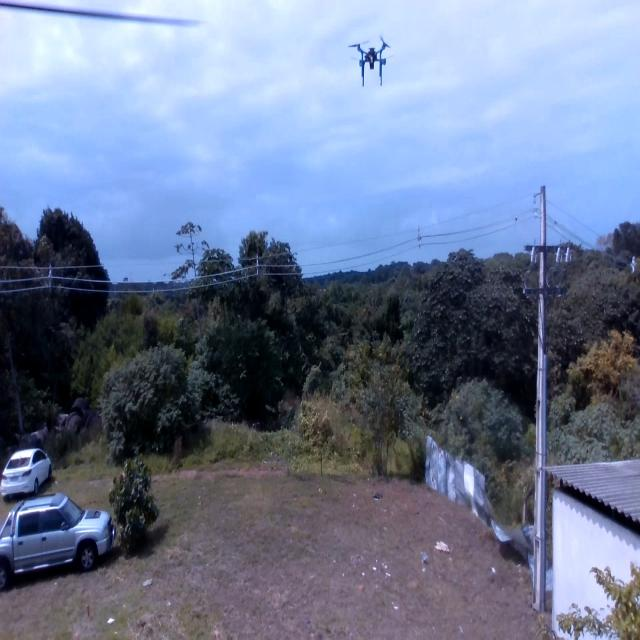-uav-: (344, 25, 397, 95)
